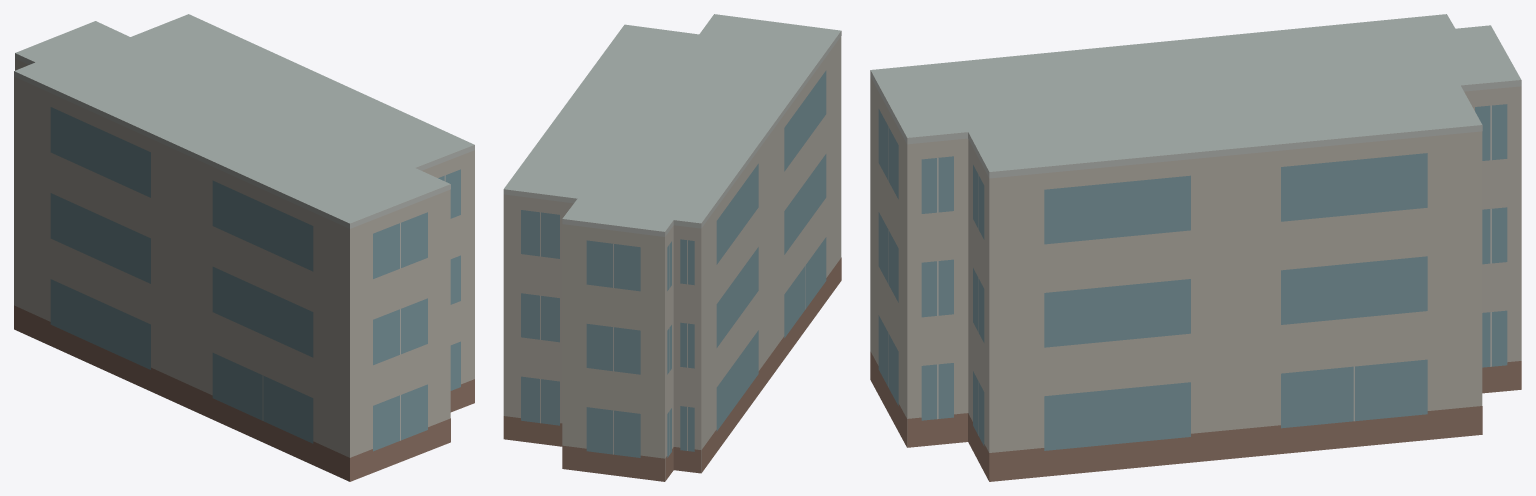
The model's file is survey-upis-32492988.glb.
The picture shows the model from 3 angles, left to right: view 1: azimuth 30°, elevation 25°; view 2: azimuth 150°, elevation 25°; view 3: azimuth 270°, elevation 25°; orthographic projection. The views are drawn at different scales.
Visible parts, largest first — view 1: survey-upis-32492988.tmp; view 2: survey-upis-32492988.tmp; view 3: survey-upis-32492988.tmp.
Boxes of the visible parts, bbox=[...] form: survey-upis-32492988.tmp: bbox=[14, 14, 474, 481]; survey-upis-32492988.tmp: bbox=[503, 14, 841, 481]; survey-upis-32492988.tmp: bbox=[870, 14, 1521, 481].
Bounding box in the file's own units: 12.93 × 11.8 × 22.49.
